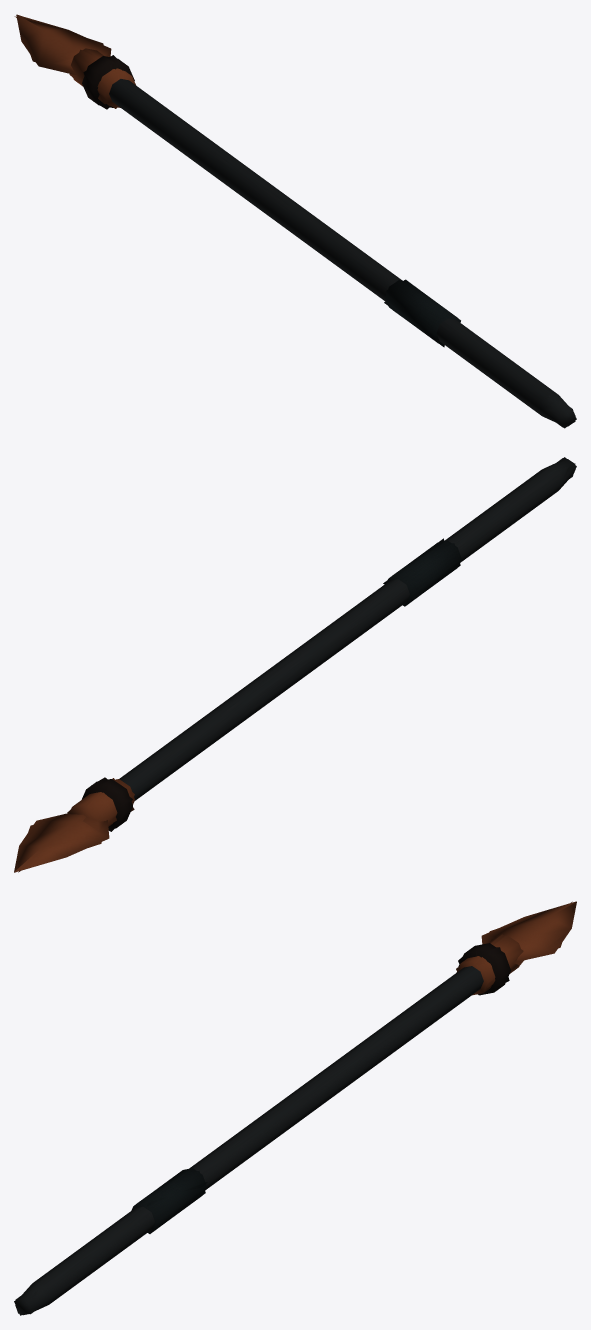
3 views of the same model, one above another, from view 1: azimuth 30°, elevation 25°; view 2: azimuth 150°, elevation 25°; view 3: azimuth 330°, elevation 25° (orthographic).
Visible parts, largest first — view 1: body_lod1, body_lod2, body_lod3; view 2: body_lod1, body_lod2; view 3: body_lod1, body_lod2, body_lod3.
Boxes of the visible parts, x1,y1,x2,y2 form: body_lod1: (16,14,575,426); body_lod2: (18,15,575,427); body_lod3: (14,16,576,428); body_lod1: (14,459,575,872); body_lod2: (15,458,575,870); body_lod1: (15,901,576,1315); body_lod2: (15,901,576,1314); body_lod3: (14,901,572,1315).
Bounding box in the file's own units: 13 × 7.6 × 171.
